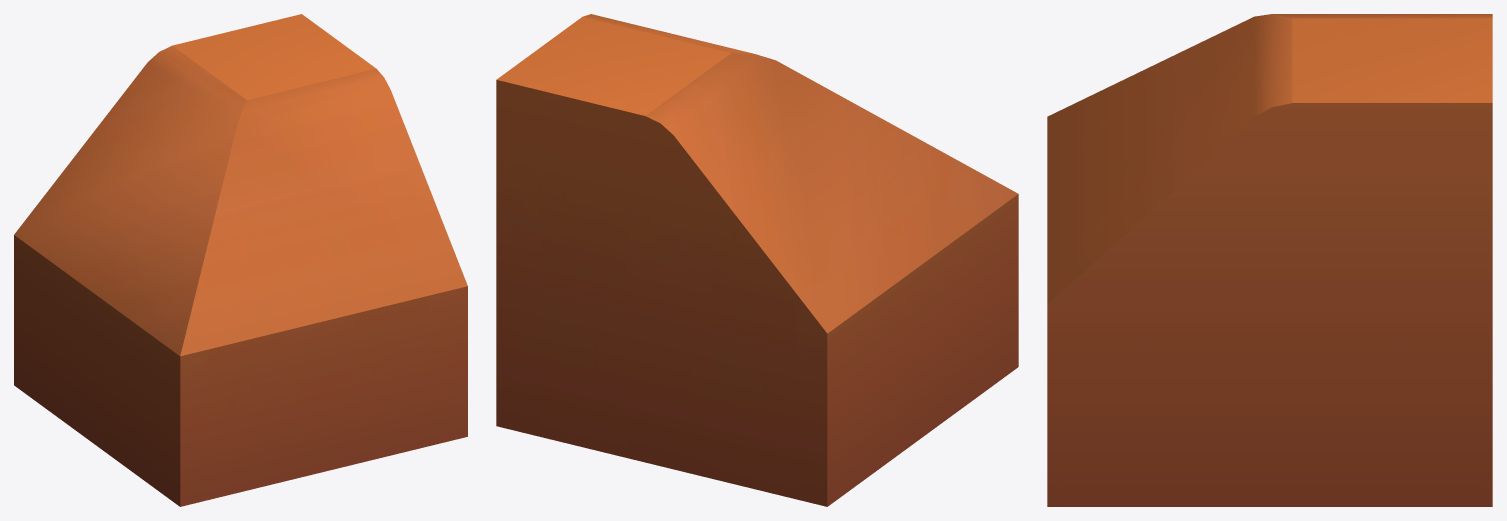
The model's file is kaykit-space-base-bits-terrain-slope-outer-corner.glb.
3 renders of one model, left to right at view 1: azimuth 30°, elevation 25°; view 2: azimuth 150°, elevation 25°; view 3: azimuth 270°, elevation 25°, orthographic. The views are drawn at different scales.
Parts seen in each view (by area): view 1: terrain_slope_outer_corner; view 2: terrain_slope_outer_corner; view 3: terrain_slope_outer_corner.
Part boxes in pixels (x1,y1,x2,y2): terrain_slope_outer_corner: (14, 14, 467, 506); terrain_slope_outer_corner: (496, 14, 1018, 506); terrain_slope_outer_corner: (1047, 14, 1492, 506).
Size of the model in its own units: 2 by 2 by 2.
Materials: 1 (1 with a texture image).
